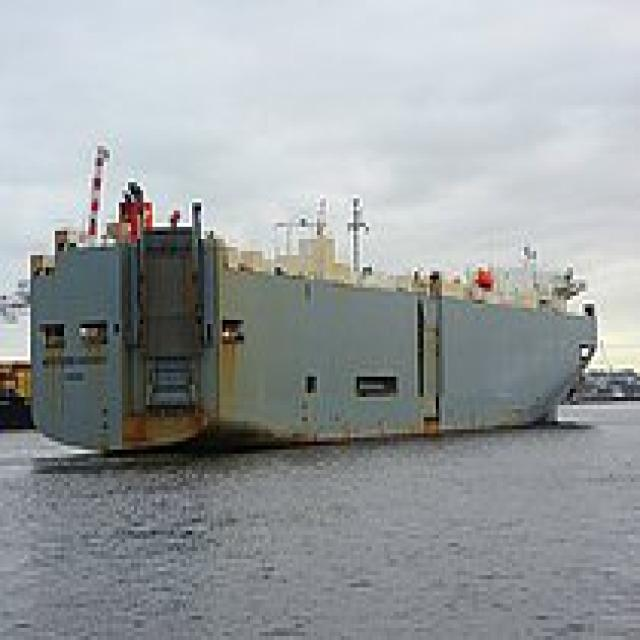Carrier: (25, 170, 598, 454)
